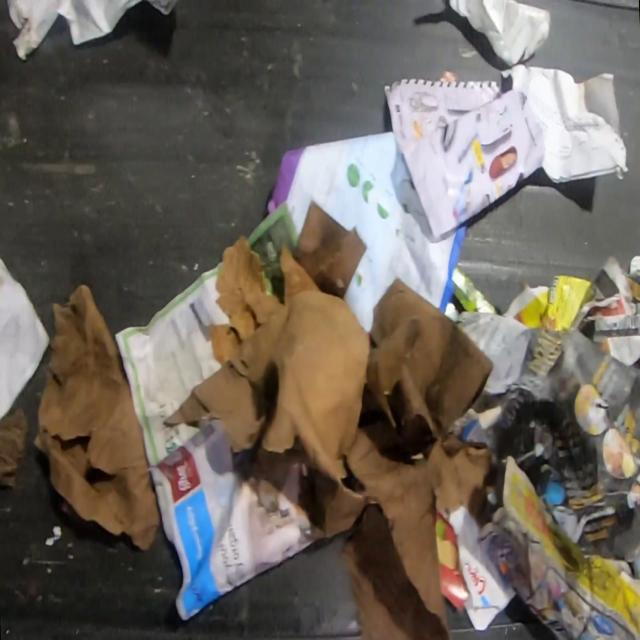cardboard: (166, 199, 496, 639), (36, 282, 158, 551)
